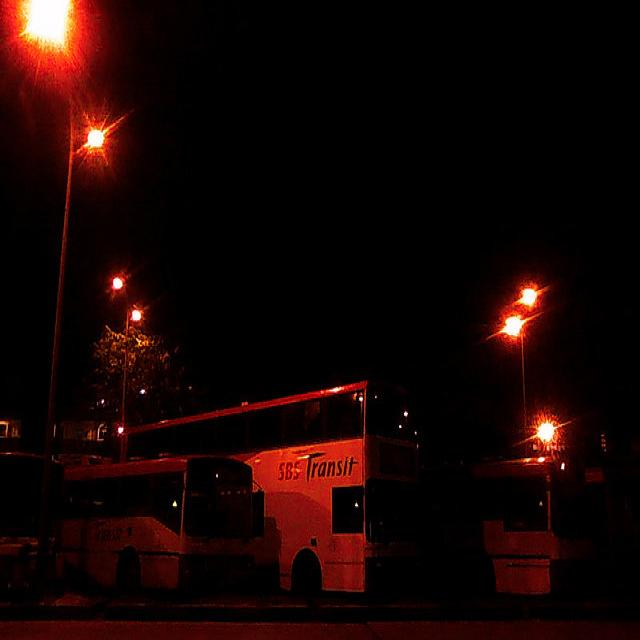Bus: (63, 376, 441, 640), (47, 450, 269, 611), (447, 449, 606, 611)
